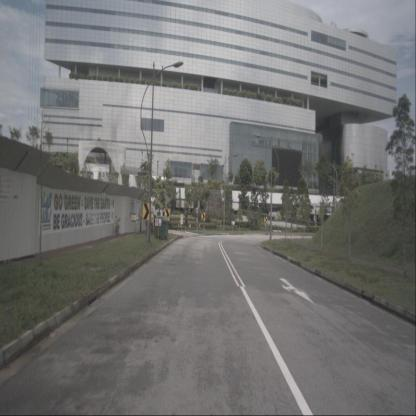human-pedestrian-adult: (184, 210, 188, 230)
vehicle-bicycle: (115, 215, 121, 236)
